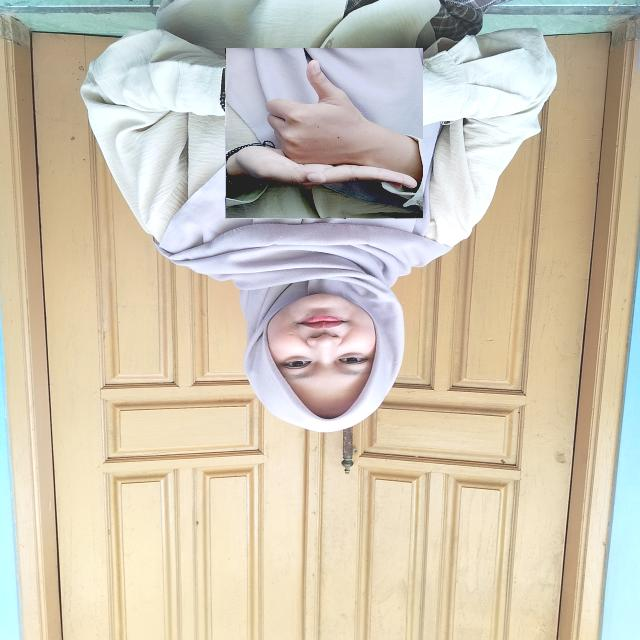cantik: (225, 48, 423, 219)
